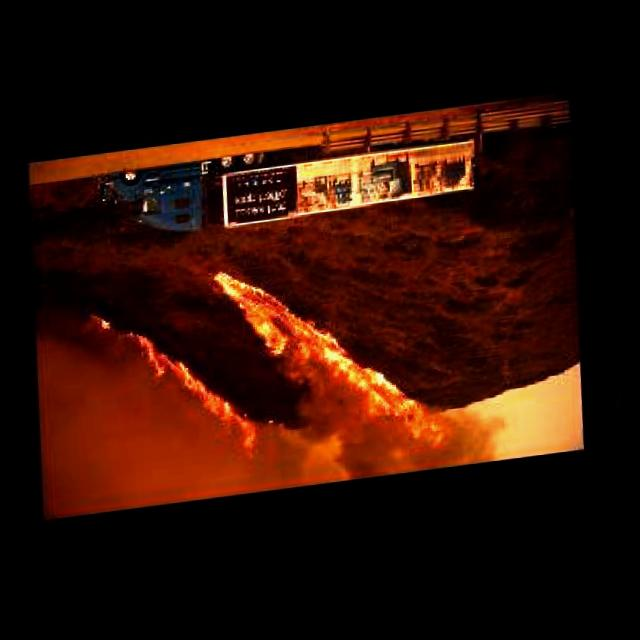helmet: (132, 250, 460, 487)
